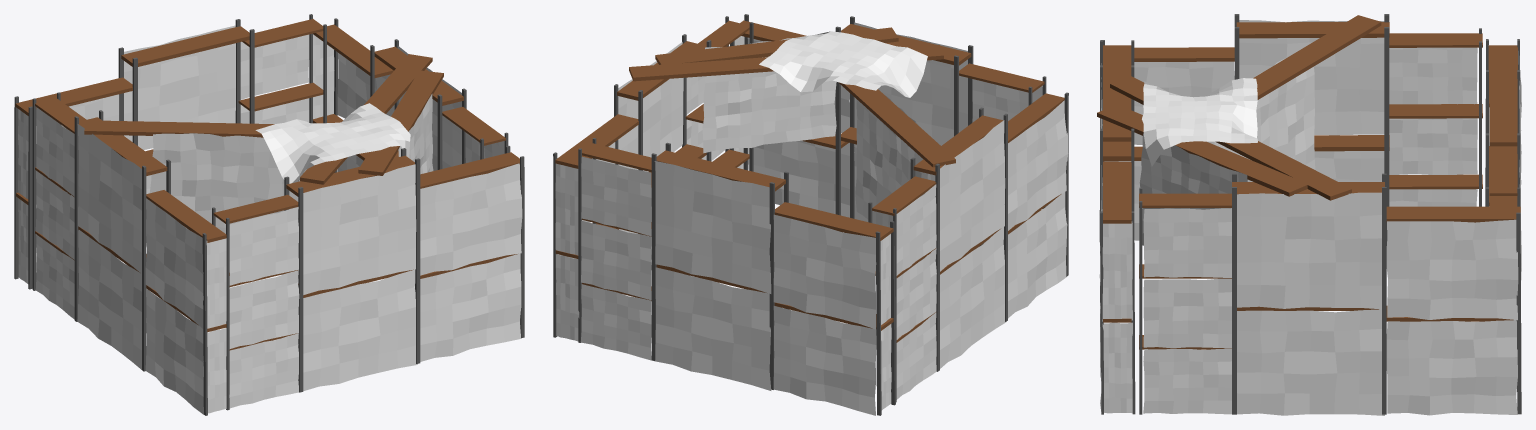
Rendered from Construction.obj.
The picture shows the model from 3 angles, left to right: view 1: azimuth 30°, elevation 25°; view 2: azimuth 150°, elevation 25°; view 3: azimuth 270°, elevation 25°; orthographic projection. The views are drawn at different scales.
Parts seen in each view (by area): view 1: BUDOWA; view 2: BUDOWA; view 3: BUDOWA.
Boxes of the visible parts, x1,y1,x2,y2 form: BUDOWA: (14, 14, 524, 415); BUDOWA: (553, 14, 1068, 415); BUDOWA: (1097, 14, 1521, 415).
Size of the model in its own units: 27.57 by 16.29 by 27.2.
